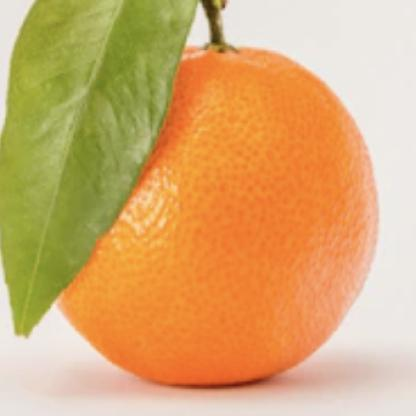fresh: (45, 40, 380, 390)
